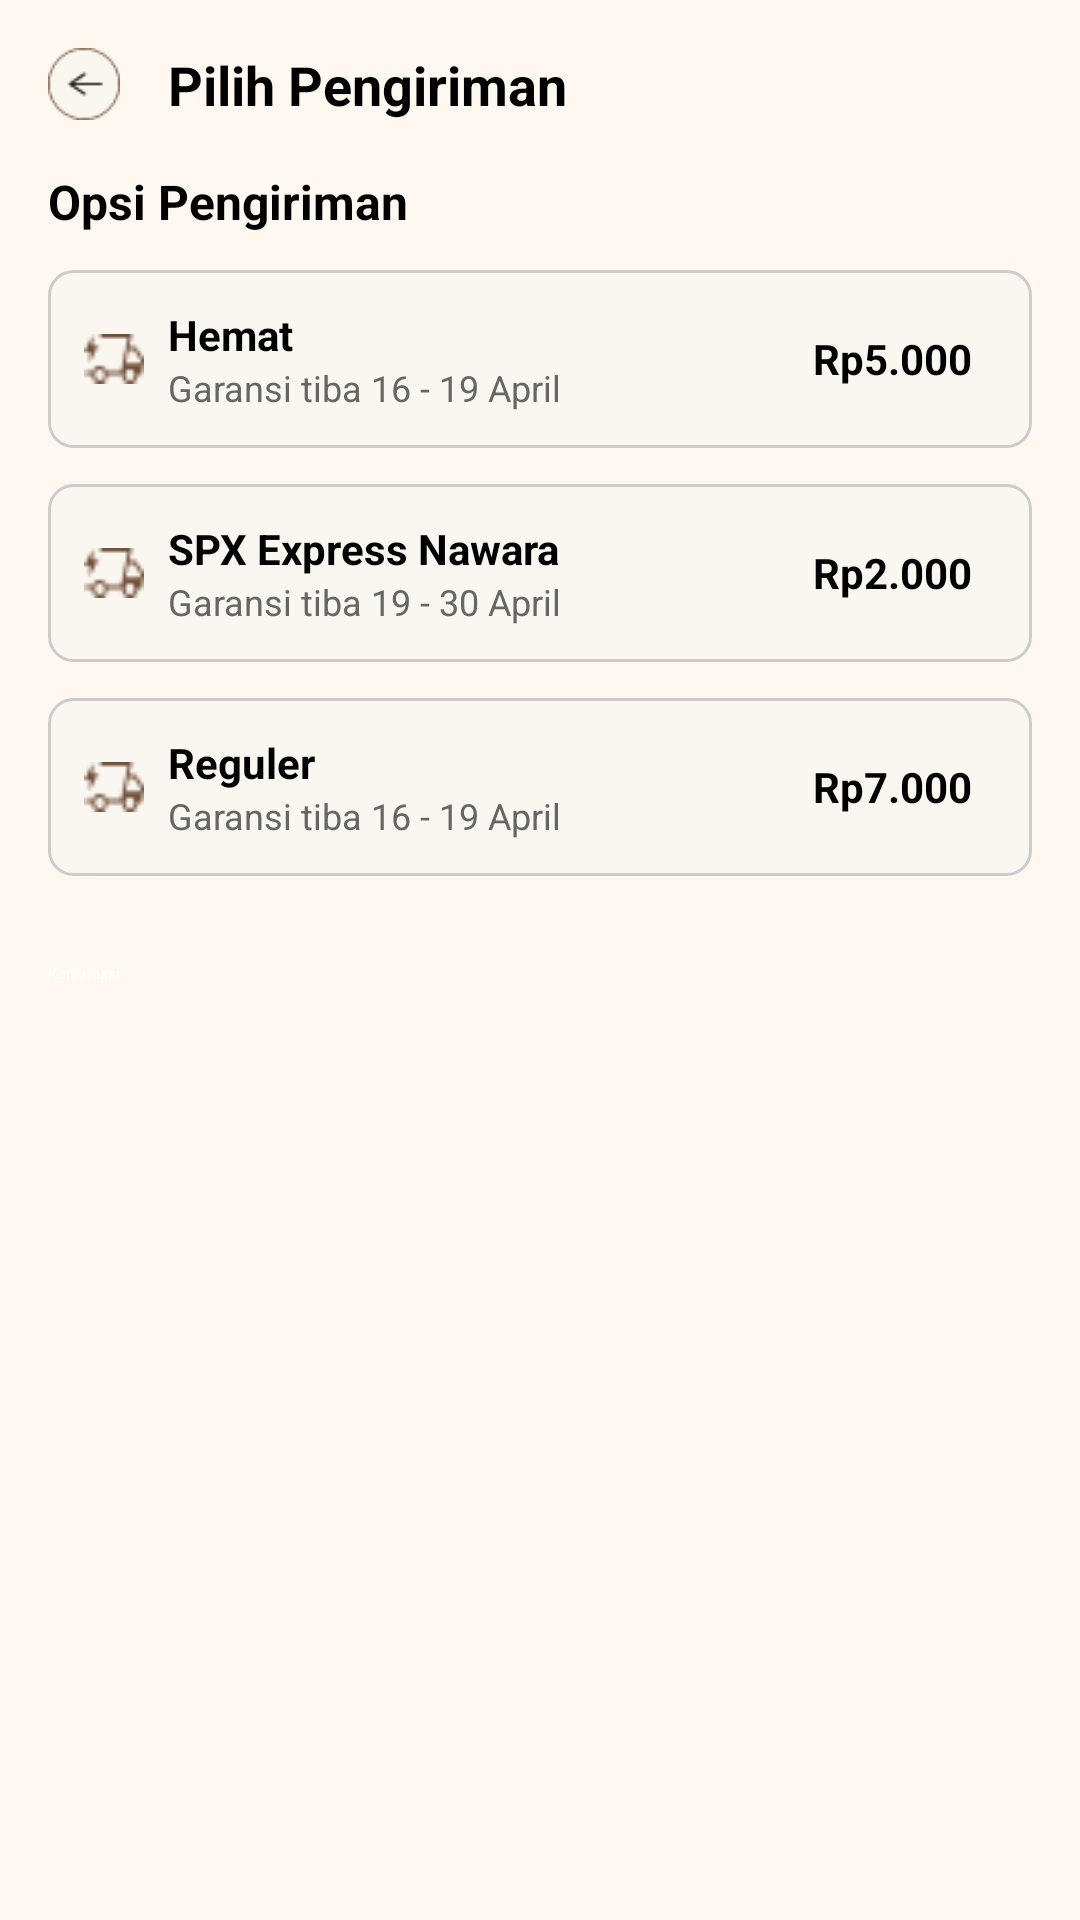

Point at icon controls on the screen. Image size 1080w x 1920h, points as (x=x, y=y).
ekspedisi: (x=114, y=359), (x=114, y=573), (x=114, y=787)
Kembali: (x=84, y=84)
